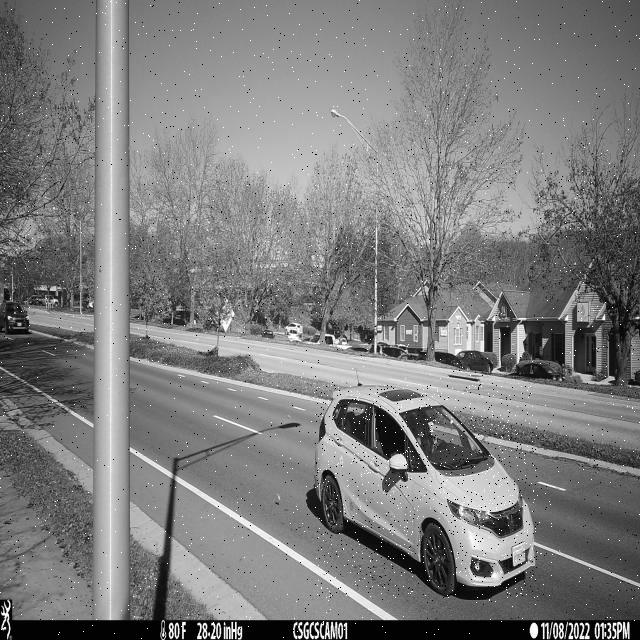Hatchback: (315, 385, 538, 598)
